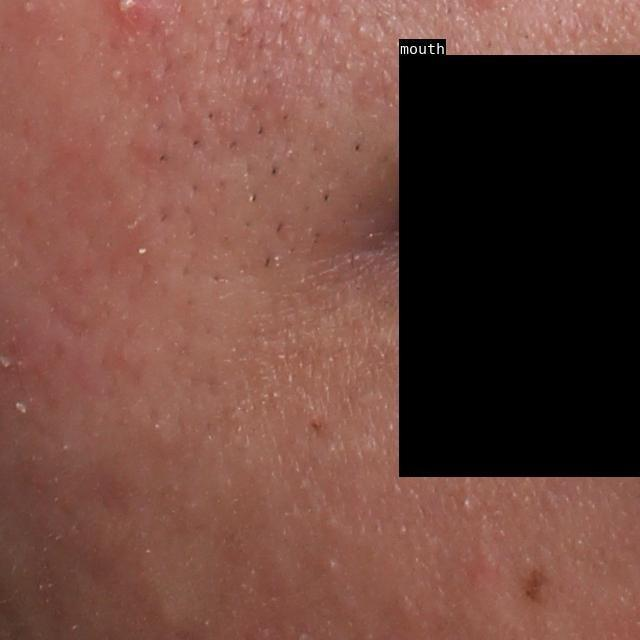comedo: (458, 495, 474, 516)
nevus: (518, 559, 550, 601)
